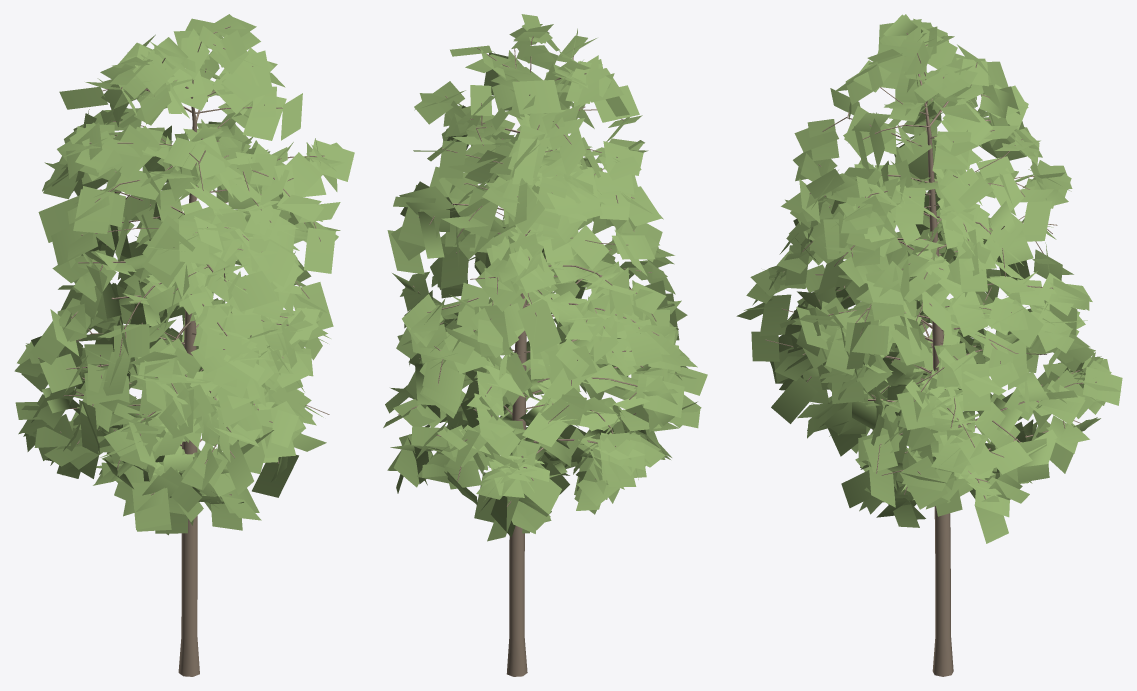
The model's file is Birch_2_lod1.glb.
The picture shows the model from 3 angles, left to right: view 1: azimuth 30°, elevation 25°; view 2: azimuth 150°, elevation 25°; view 3: azimuth 270°, elevation 25°; orthographic projection. The views are drawn at different scales.
Parts seen in each view (by area): view 1: Birch_2_lod1; view 2: Birch_2_lod1; view 3: Birch_2_lod1.
Part boxes in pixels (bbox=[...]): Birch_2_lod1: bbox=[14, 14, 354, 676]; Birch_2_lod1: bbox=[383, 14, 707, 676]; Birch_2_lod1: bbox=[736, 14, 1122, 676].
Bounding box in the file's own units: 8 × 17.65 × 9.68.
